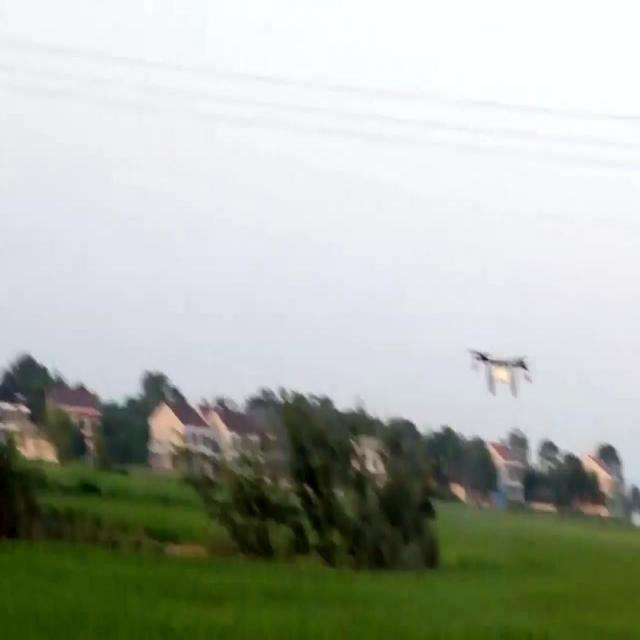UAV: (466, 348, 532, 398)
